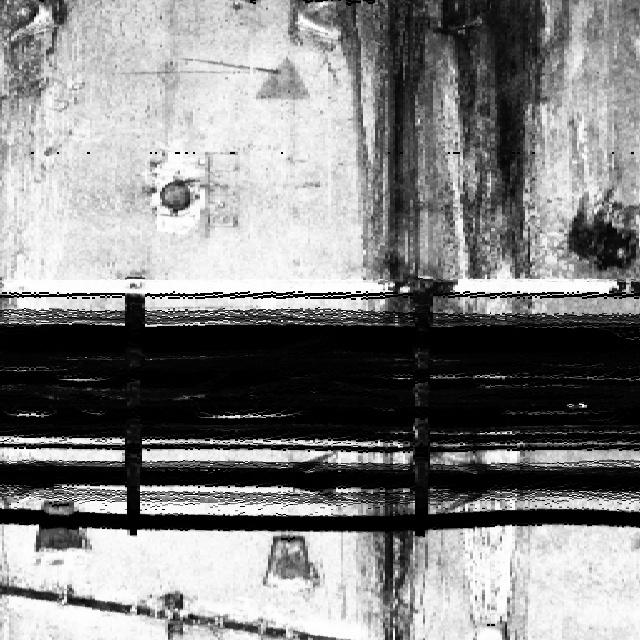leakage: (315, 0, 547, 286), (0, 0, 67, 285), (347, 443, 444, 639), (559, 189, 639, 283)
